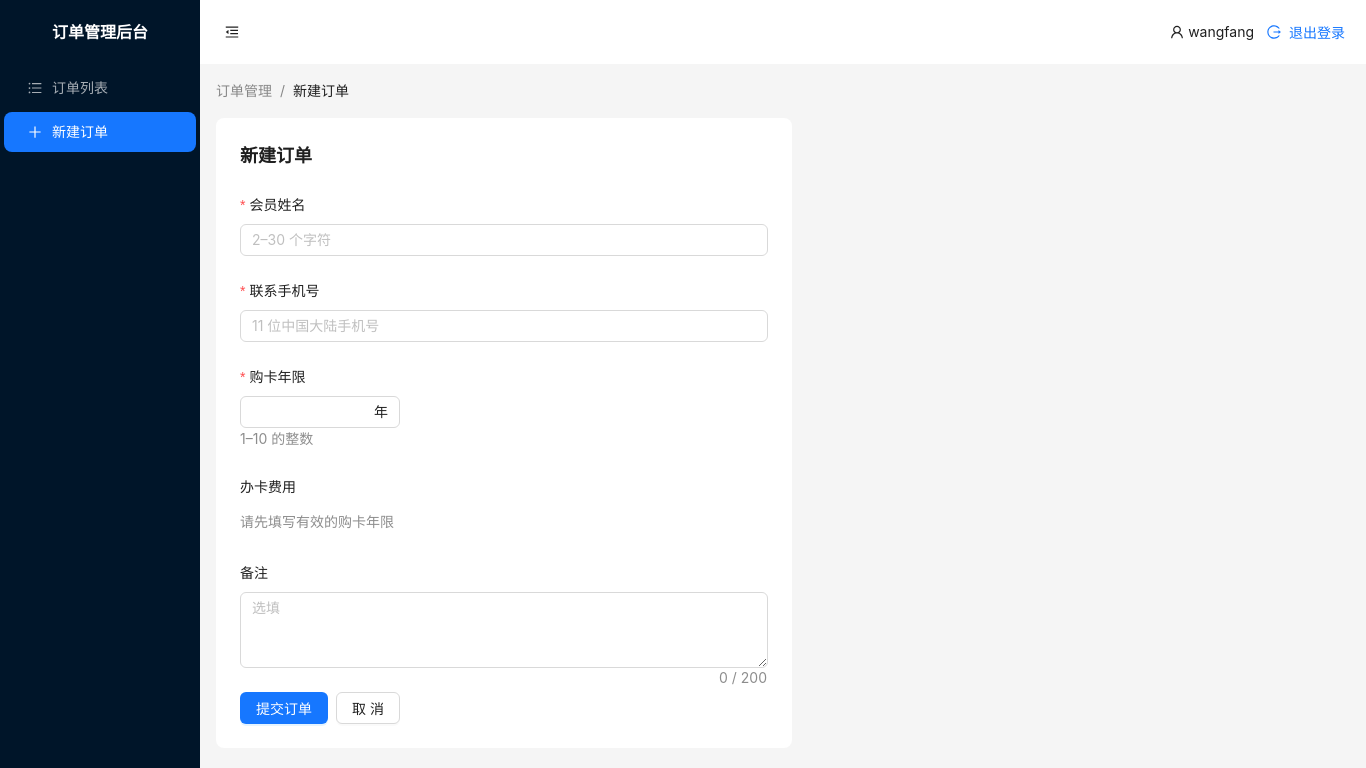
Test: 会员姓名 › 只填了姓（1 个字符）
The image size is (1366, 768).
In the field labelled "会员姓名": (504, 240) [240, 224, 768, 256], type "周"
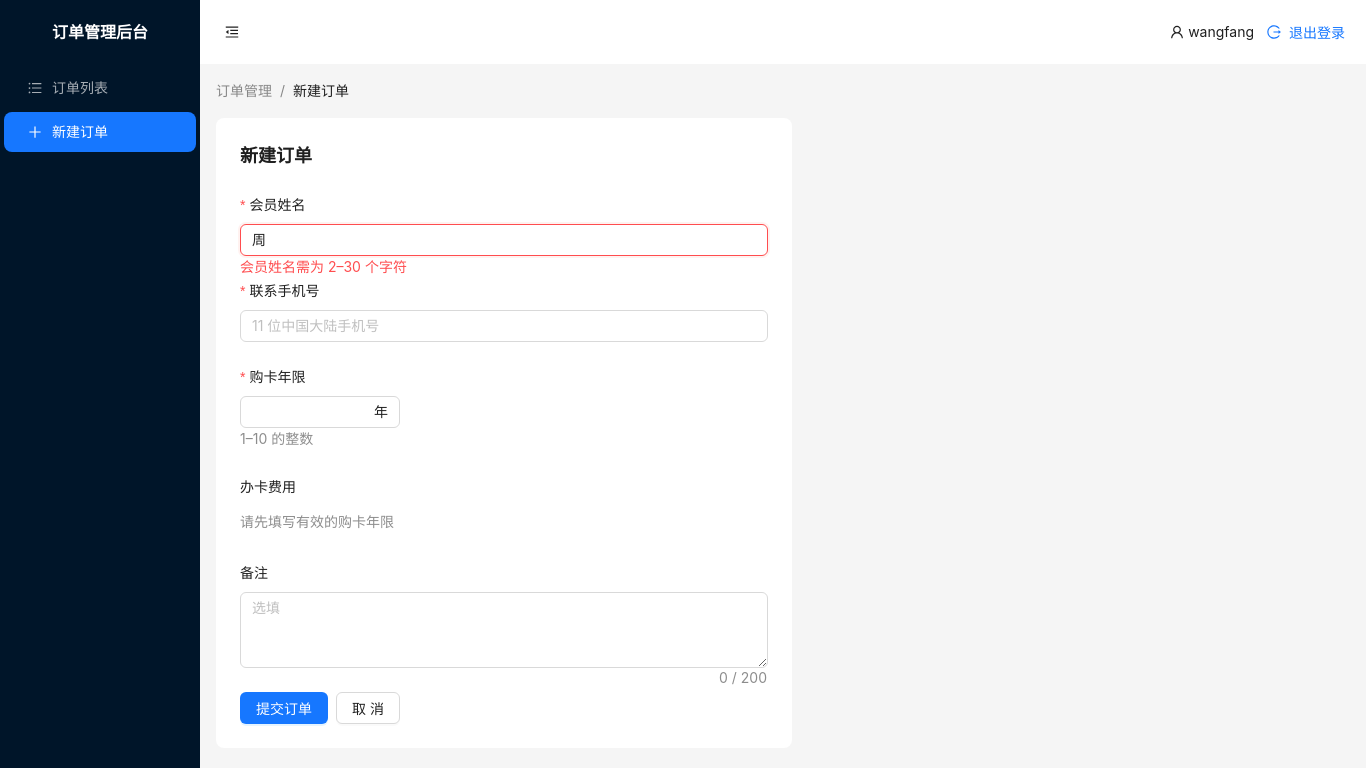
expect the text "会员姓名需为 2–30 个字符" is shown: met, box [240, 258, 407, 275]
